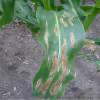Corn leaf blight: (26, 7, 86, 99)
